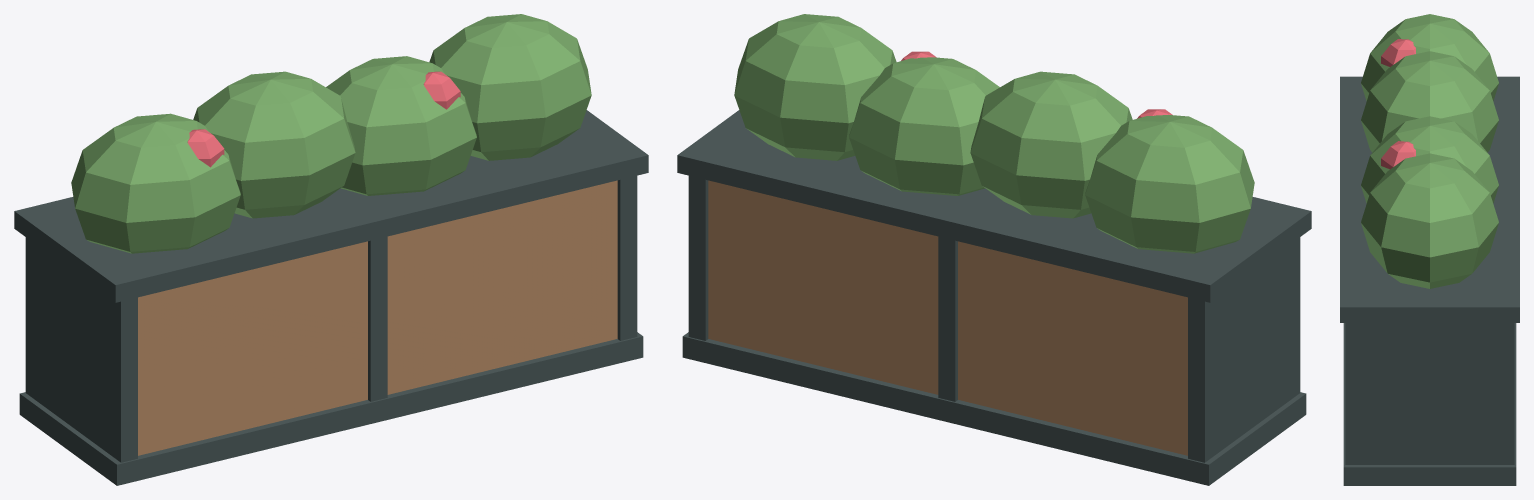
The model's file is Paris_PlanterBox.fbx.
The picture shows the model from 3 angles, left to right: view 1: azimuth 30°, elevation 25°; view 2: azimuth 150°, elevation 25°; view 3: azimuth 270°, elevation 25°; orthographic projection. The views are drawn at different scales.
Parts seen in each view (by area): view 1: Paris_PlanterBox; view 2: Paris_PlanterBox; view 3: Paris_PlanterBox.
Part boxes in pixels (box(x1,y1,x2,y2)): Paris_PlanterBox: box(14, 14, 648, 485); Paris_PlanterBox: box(677, 14, 1311, 485); Paris_PlanterBox: box(1340, 14, 1519, 485).
Bounding box in the file's own units: 1.58 × 0.91 × 0.52.
